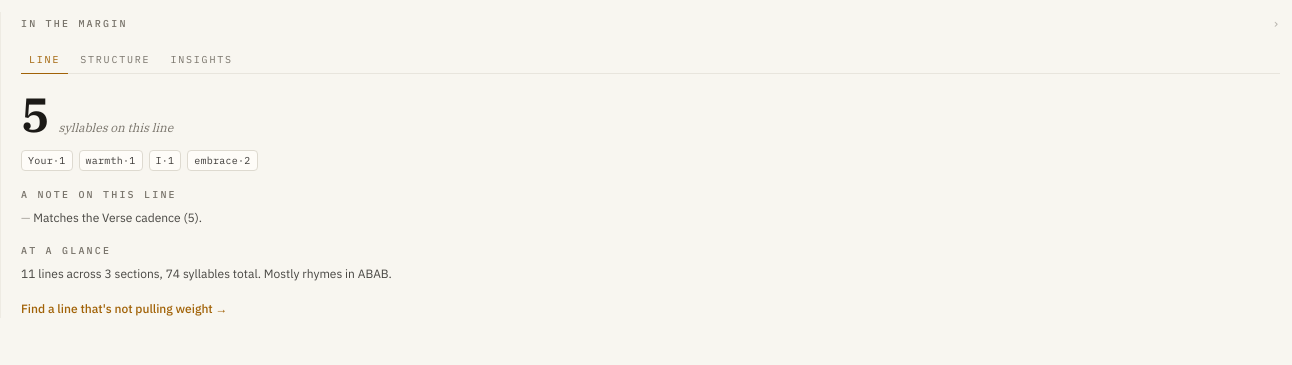
MarginRail › shows structure details on the Structure tab
Click the tab "Structure" at [115, 62], box [72,52,158,74]
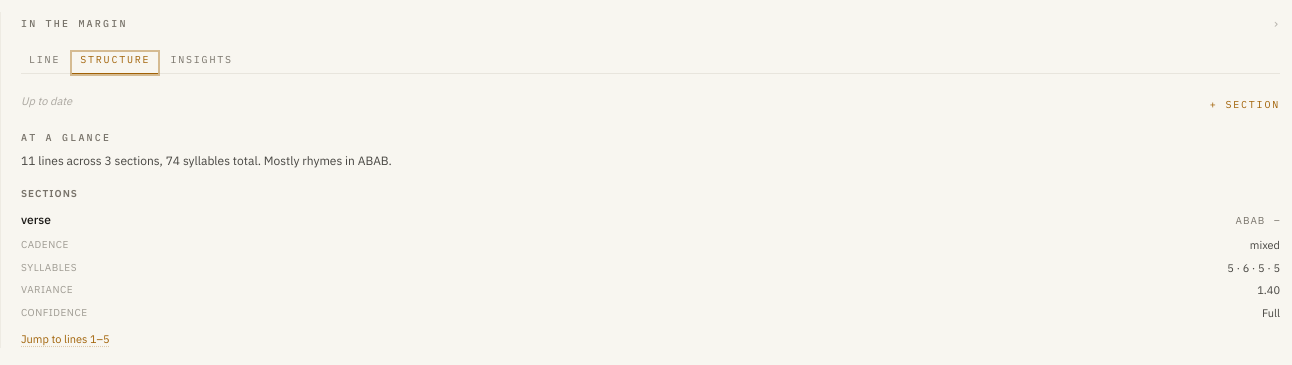
Expected: the heading "At a glance" is shown, [21,130,111,144]
Result: the text "ABAB" is shown at [1236,213,1265,228]
Result: the button "+ Section" is shown at [1210,96,1280,112]
